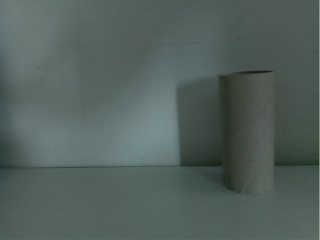rollo papel: (217, 70, 277, 194)
